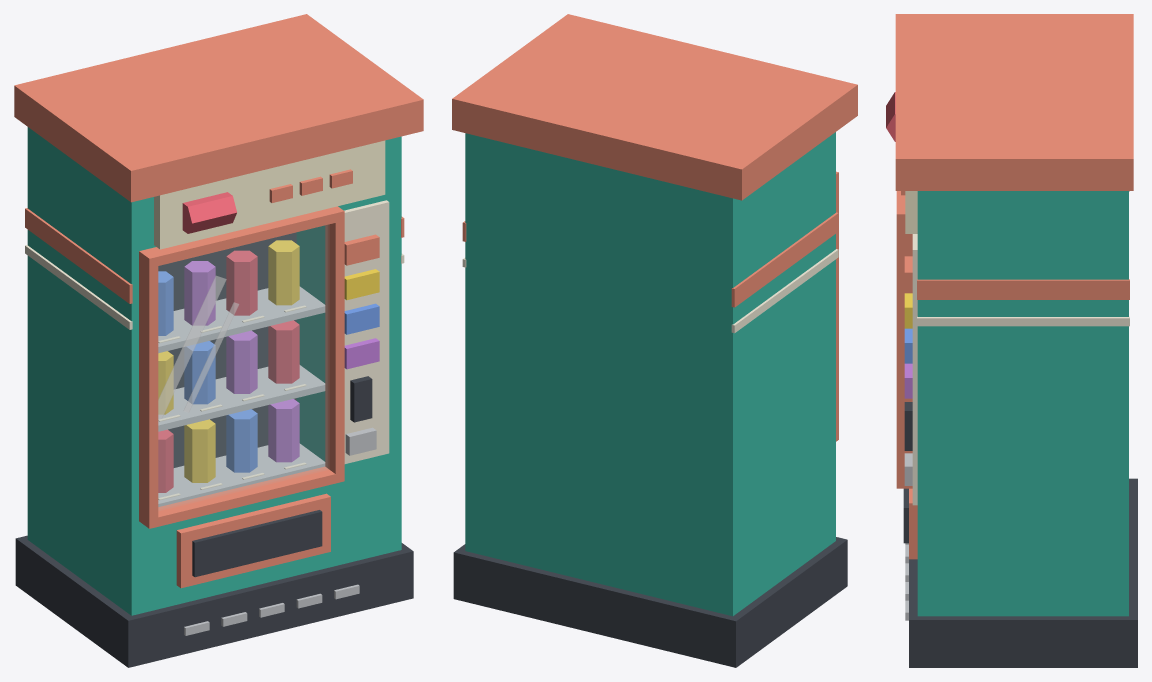
The model's file is MaquinaRefrescos.fbx.
The picture shows the model from 3 angles, left to right: view 1: azimuth 30°, elevation 25°; view 2: azimuth 150°, elevation 25°; view 3: azimuth 270°, elevation 25°; orthographic projection. The views are drawn at different scales.
Visible parts, largest first — view 1: Maquina_Coral, Maquina_Menta, Maquina_Vidrio, Maquina_Oscuro, Maquina_Metal, Maquina_Luz, Maquina_Crema, Maquina_LataD, Maquina_LataA, Maquina_LataB, Maquina_LataC, Maquina_Brillo; view 2: Maquina_Menta, Maquina_Coral, Maquina_Oscuro, Maquina_Crema; view 3: Maquina_Menta, Maquina_Coral, Maquina_Oscuro, Maquina_Crema, Maquina_Metal, Maquina_Luz, Maquina_LataA.
Boxes of the visible parts, x1=… form: Maquina_Coral: x1=14, y1=14, x2=423, y2=588; Maquina_Menta: x1=27, y1=127, x2=401, y2=615; Maquina_Vidrio: x1=158, y1=225, x2=327, y2=509; Maquina_Oscuro: x1=15, y1=232, x2=413, y2=667; Maquina_Metal: x1=158, y1=286, x2=376, y2=635; Maquina_Luz: x1=154, y1=140, x2=385, y2=249; Maquina_Crema: x1=25, y1=200, x2=404, y2=500; Maquina_LataD: x1=184, y1=261, x2=379, y2=462; Maquina_LataA: x1=158, y1=192, x2=299, y2=492; Maquina_LataB: x1=158, y1=240, x2=379, y2=482; Maquina_LataC: x1=158, y1=271, x2=379, y2=472; Maquina_Brillo: x1=158, y1=276, x2=238, y2=418; Maquina_Menta: x1=465, y1=132, x2=835, y2=616; Maquina_Coral: x1=452, y1=14, x2=857, y2=441; Maquina_Oscuro: x1=453, y1=537, x2=847, y2=667; Maquina_Crema: x1=462, y1=249, x2=838, y2=333; Maquina_Menta: x1=917, y1=191, x2=1128, y2=616; Maquina_Coral: x1=895, y1=14, x2=1133, y2=559; Maquina_Oscuro: x1=903, y1=402, x2=1137, y2=667; Maquina_Crema: x1=912, y1=191, x2=1129, y2=505; Maquina_Metal: x1=904, y1=453, x2=912, y2=620; Maquina_Luz: x1=905, y1=191, x2=917, y2=233; Maquina_LataA: x1=886, y1=92, x2=895, y2=141.
Bounding box in the file's own units: 195 × 320 × 143.
